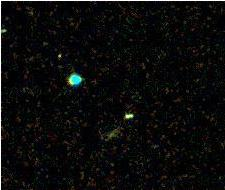star: (35, 37, 65, 67)
